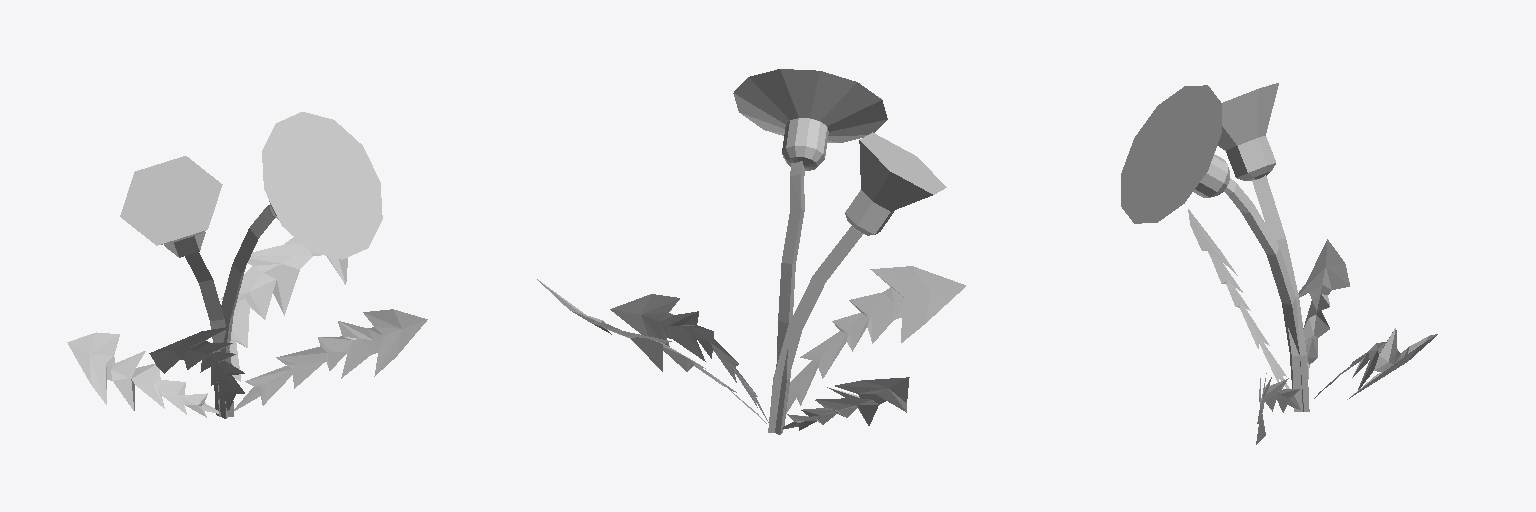
The model's file is obj_dandelion.obj.
3 renders of one model, left to right at view 1: azimuth 30°, elevation 25°; view 2: azimuth 150°, elevation 25°; view 3: azimuth 270°, elevation 25°, orthographic.
Visible parts, largest first — view 1: dandelion_Plane.003; view 2: dandelion_Plane.003; view 3: dandelion_Plane.003.
Part boxes in pixels (bbox=[...]): dandelion_Plane.003: bbox=[67, 112, 427, 418]; dandelion_Plane.003: bbox=[537, 69, 965, 434]; dandelion_Plane.003: bbox=[1121, 83, 1437, 444].
Size of the model in its own units: 0.3489 by 0.3285 by 0.2912.